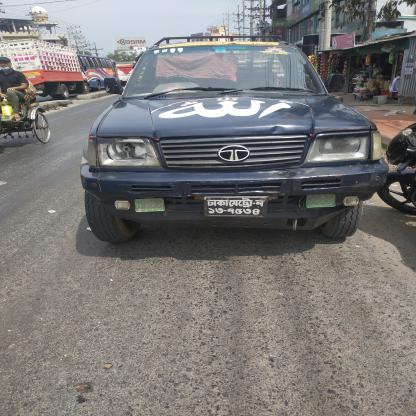license_plate: (206, 196, 266, 218)
